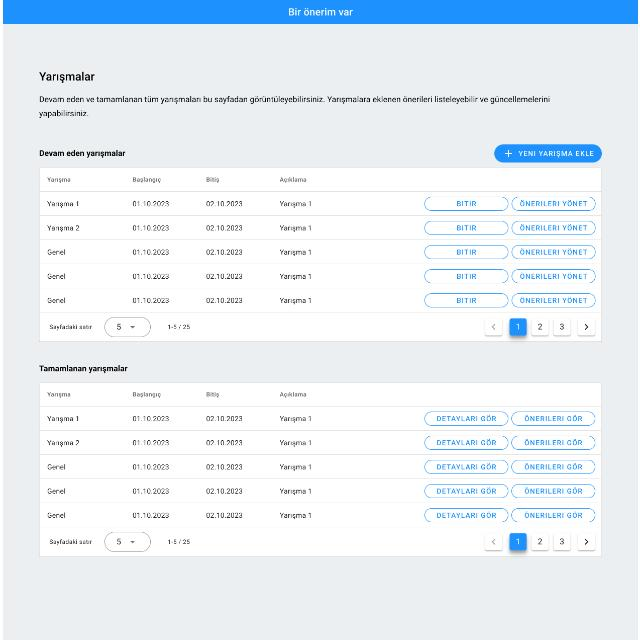QLabel: (39, 382, 600, 558), (36, 96, 550, 116), (37, 364, 126, 374), (36, 70, 96, 84), (284, 6, 352, 18), (518, 148, 594, 158), (36, 149, 128, 157)
VAppBar: (2, 1, 638, 26)
VBtn: (494, 144, 602, 162)
VDataTable: (38, 168, 604, 342)
VIcon: (504, 149, 512, 159)
